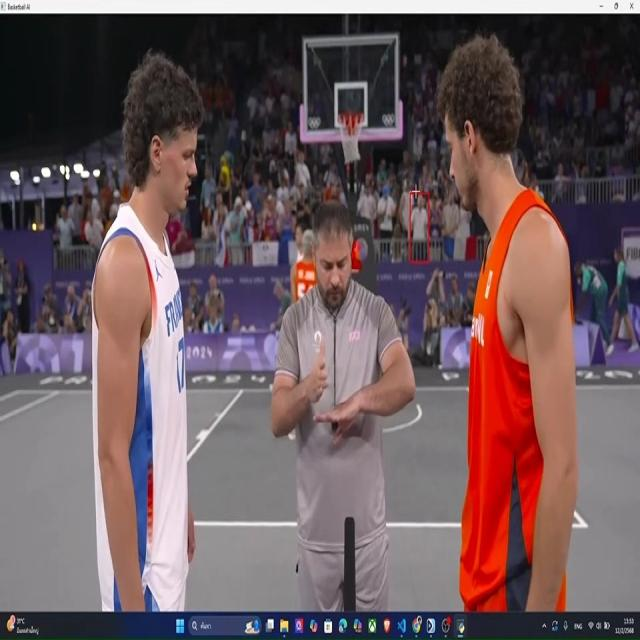hoop: (338, 112, 363, 162)
